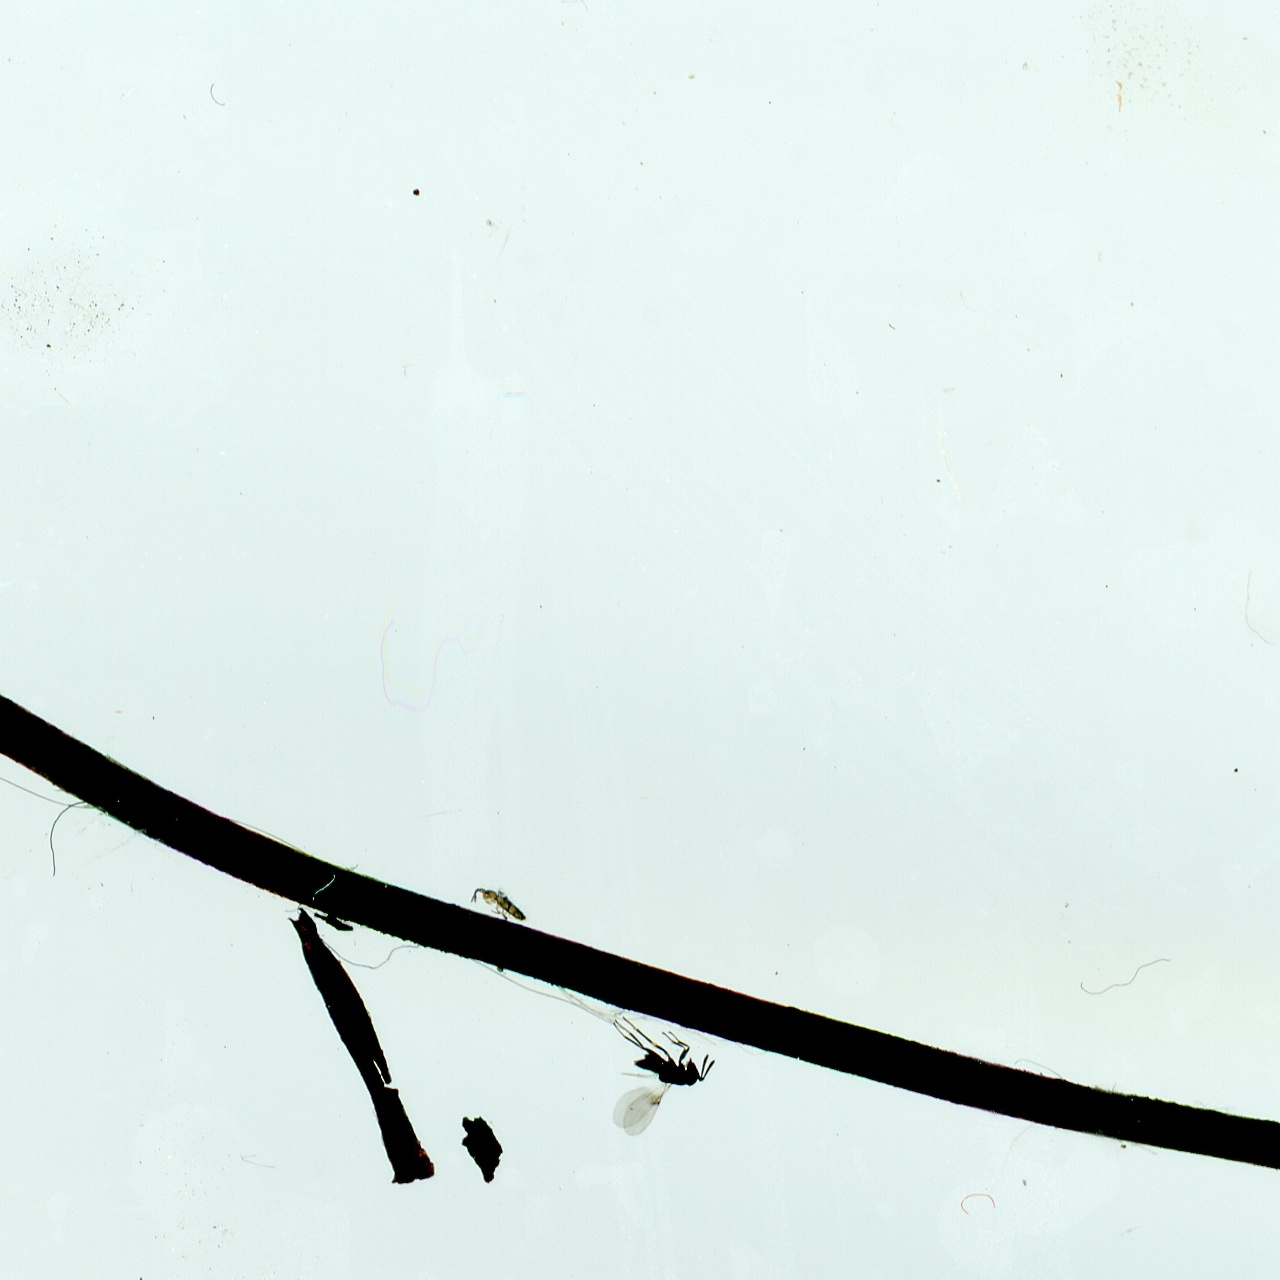arthropod: (606, 1009, 719, 1141), (467, 883, 527, 920)
